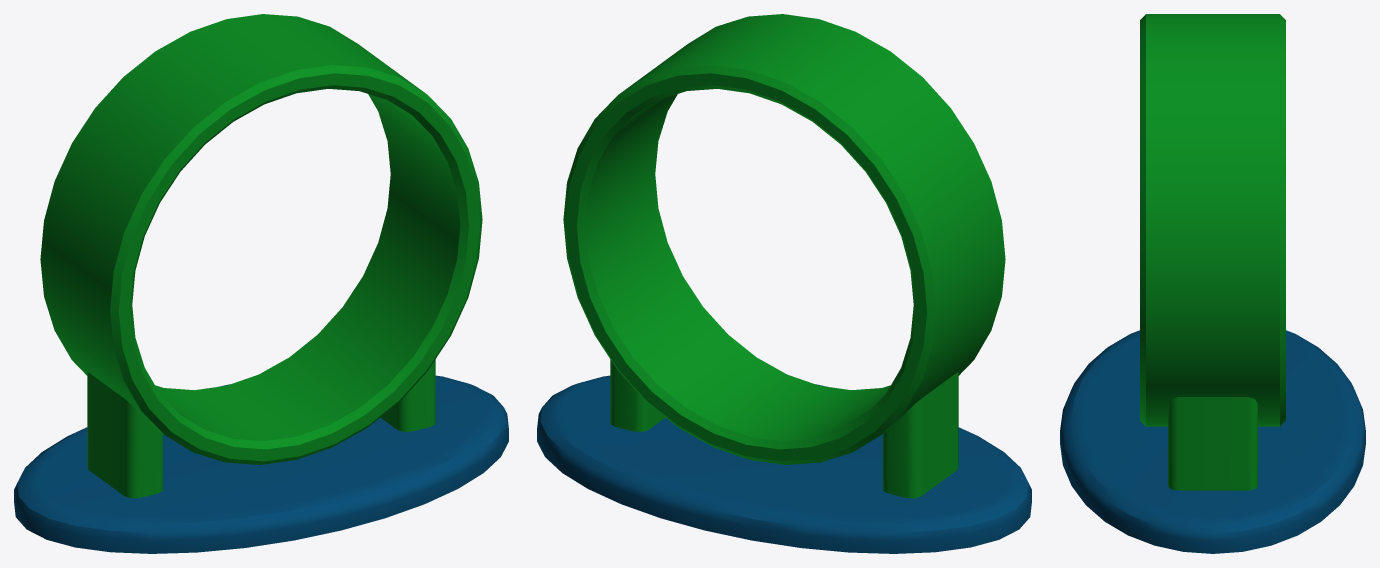
File: Fan.glb
3 views of the same model, side by side, from view 1: azimuth 30°, elevation 25°; view 2: azimuth 150°, elevation 25°; view 3: azimuth 270°, elevation 25° (orthographic). The views are drawn at different scales.
Parts seen in each view (by area): view 1: Fan; view 2: Fan; view 3: Fan.
Part boxes in pixels (x1=…): Fan: x1=14, y1=14, x2=508, y2=553; Fan: x1=537, y1=14, x2=1031, y2=553; Fan: x1=1060, y1=14, x2=1365, y2=553.
Size of the model in its own units: 1.6 by 1.39 by 0.9398.
